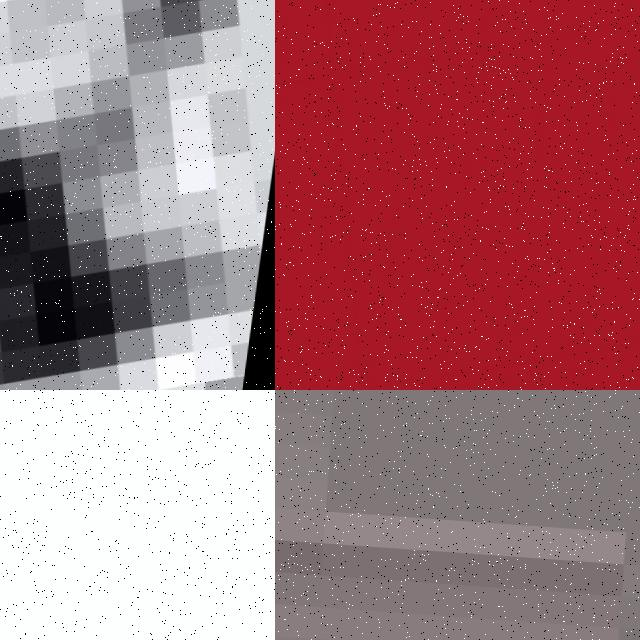0: (0, 0, 275, 390)
drone: (275, 0, 640, 390)
